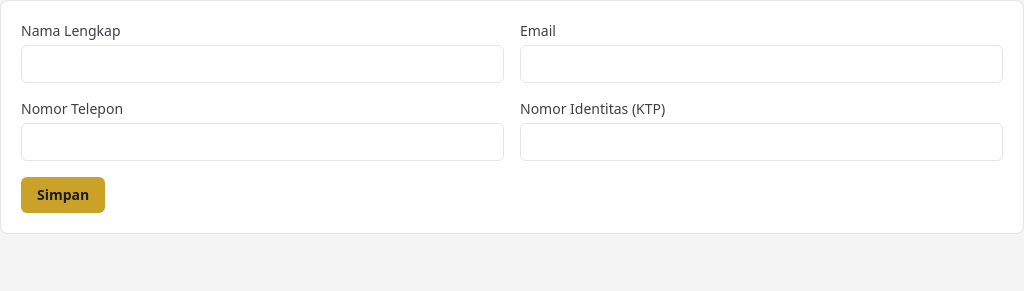
Test: CustomerForm › validates required fields before submitting
Click the button "Simpan". click: [63, 195]
box: [21,177,105,213]
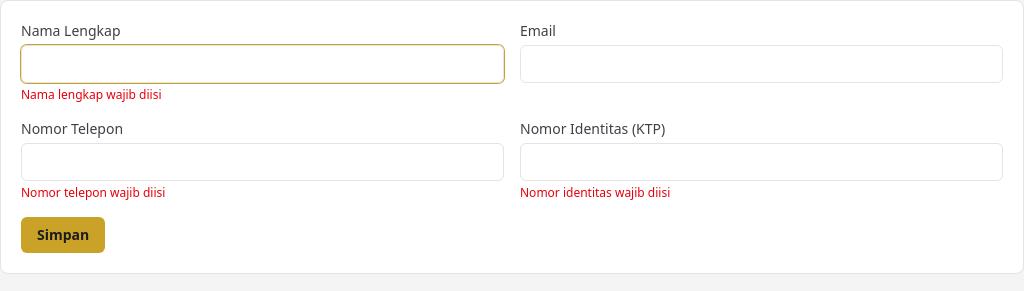
Expected: the text "Nama lengkap wajib diisi" is shown, [21,86,162,103]
